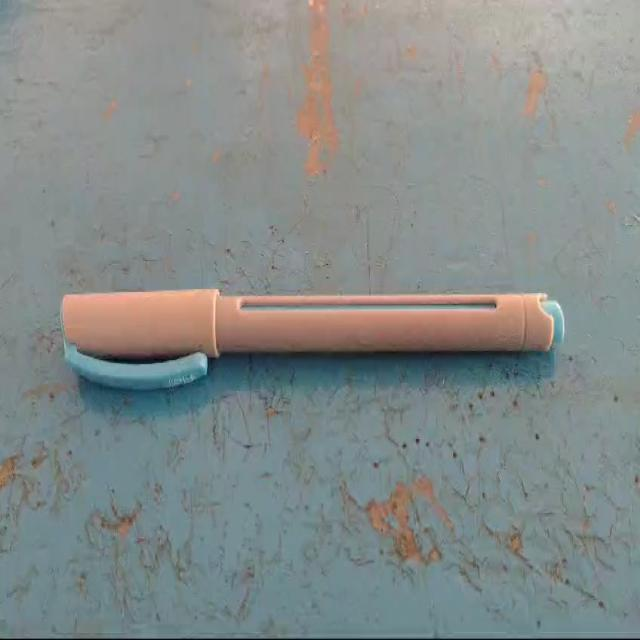pen: (41, 244, 592, 450)
